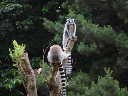cat: (60, 15, 78, 81), (47, 43, 69, 95)
